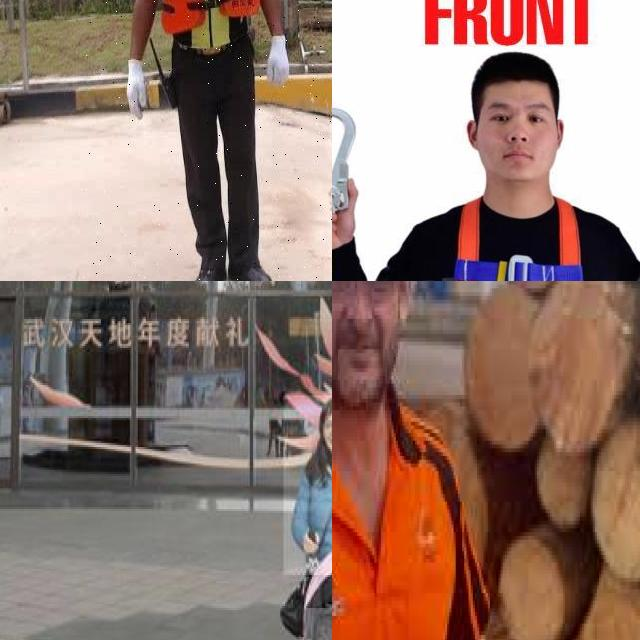Harness: (454, 199, 584, 281)
boots: (230, 257, 276, 281), (181, 260, 229, 281)
face_nomask: (321, 410, 332, 447)
hand_noglove: (300, 524, 324, 558)
head_nohelmet: (323, 389, 332, 422)
person: (78, 0, 332, 281), (332, 281, 495, 640), (283, 395, 332, 576)
vest: (153, 0, 266, 57)
